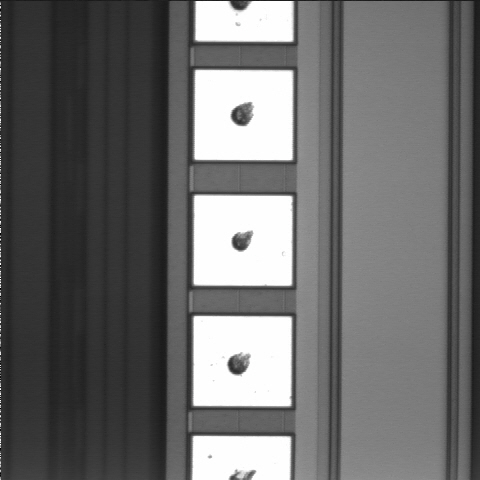pad: (194, 195, 292, 286), (193, 316, 292, 406), (195, 70, 293, 160)
